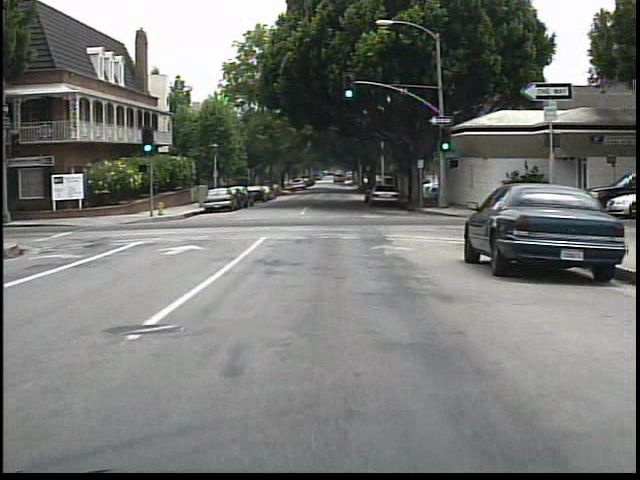person: (519, 170, 545, 216)
